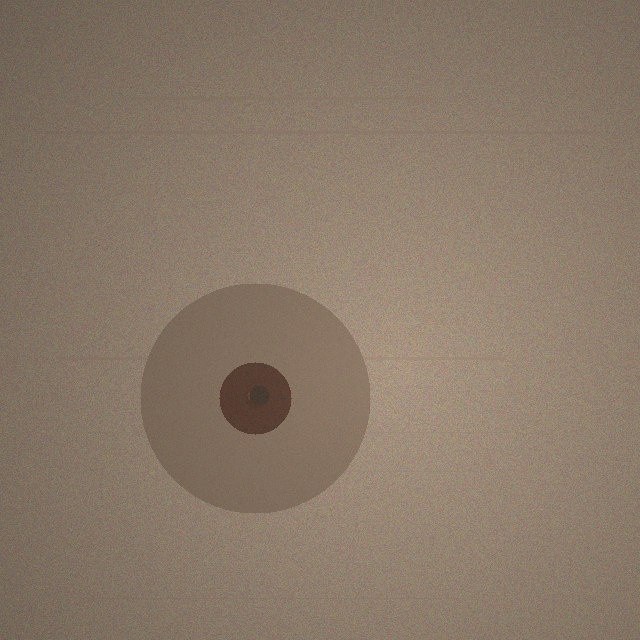cold_weld: (140, 283, 370, 513)
